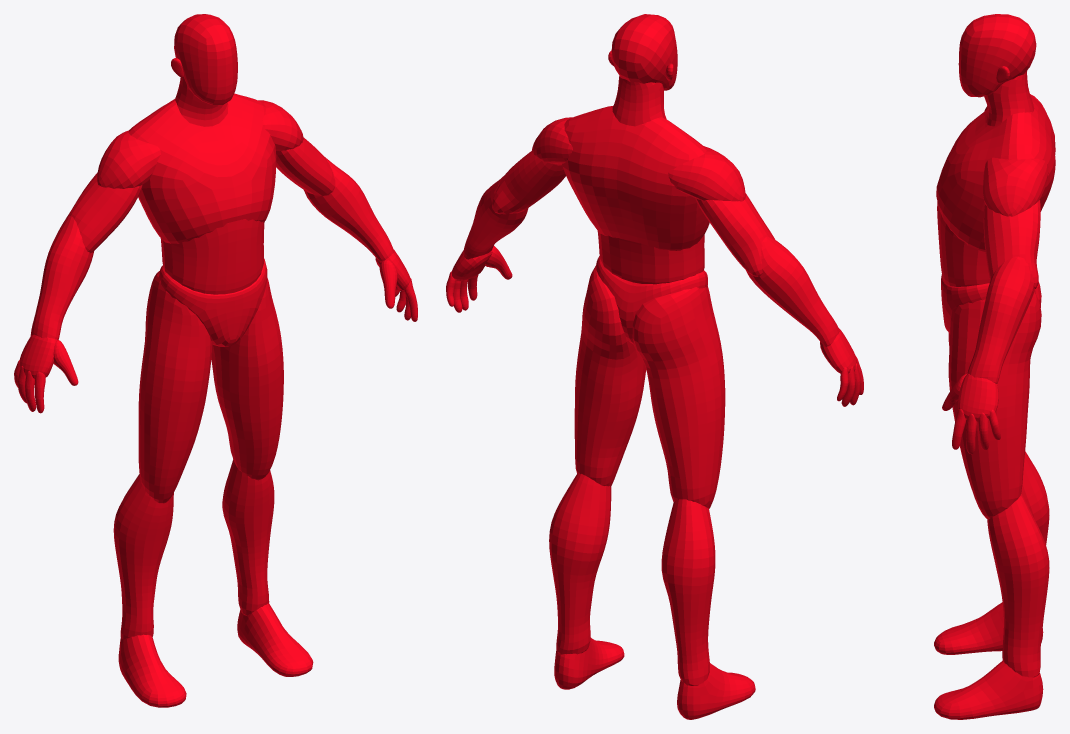
File: Zombie.fbx
3 views of the same model, side by side, from view 1: azimuth 30°, elevation 25°; view 2: azimuth 150°, elevation 25°; view 3: azimuth 270°, elevation 25° (orthographic). The views are drawn at different scales.
Visible parts, largest first — view 1: Group17138; view 2: Group17138; view 3: Group17138.
Part boxes in pixels (x1,y1,x2,y2): Group17138: (14,14,417,707); Group17138: (446,14,863,719); Group17138: (934,14,1055,719).
Bounding box in the file's own units: 118 × 188 × 41.93.
